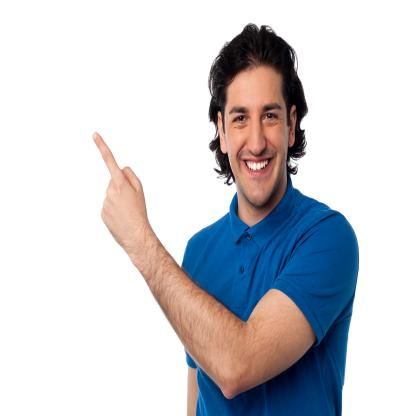Up: (87, 113, 161, 250)
